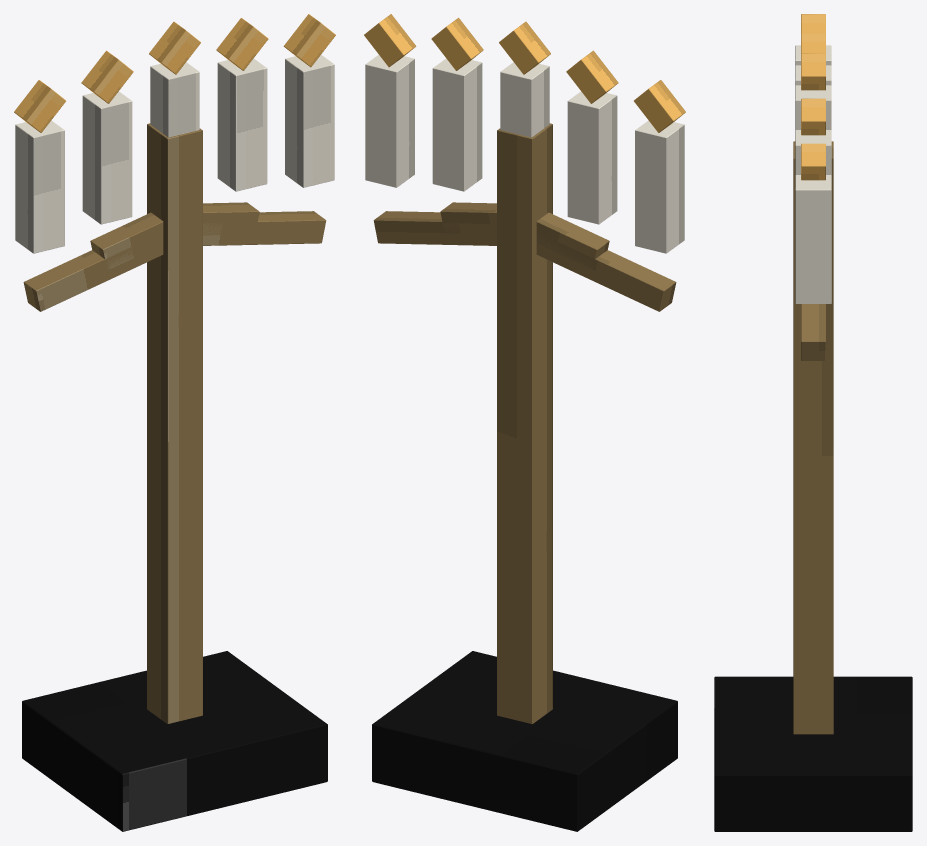
The model's file is gothic_floor_candelabra.glb.
3 views of the same model, side by side, from view 1: azimuth 30°, elevation 25°; view 2: azimuth 150°, elevation 25°; view 3: azimuth 270°, elevation 25° (orthographic).
Visible parts, largest first — view 1: CandelabraBase, CandelabraStem, FloorCandle_1, FloorCandle_3, FloorCandle_0, FloorCandle_4, CandelabraArm_0, FloorCandle_2, CandelabraArm_4, CandelabraArm_1, CandelabraArm_3, FloorFlame_2 (+4 smaller); view 2: CandelabraBase, CandelabraStem, FloorCandle_1, FloorCandle_3, FloorCandle_0, FloorCandle_4, CandelabraArm_0, CandelabraArm_4, FloorCandle_2, CandelabraArm_1, CandelabraArm_3, FloorFlame_2 (+4 smaller); view 3: CandelabraBase, CandelabraStem, FloorCandle_4, CandelabraArm_4, FloorFlame_2, FloorFlame_3, FloorFlame_4, FloorCandle_2, FloorCandle_3, FloorFlame_0, FloorFlame_1.
Boxes of the visible parts, bbox=[...] form: CandelabraBase: bbox=[22, 651, 327, 831]; CandelabraStem: bbox=[147, 123, 202, 723]; FloorCandle_1: bbox=[82, 91, 132, 224]; FloorCandle_3: bbox=[217, 58, 267, 191]; FloorCandle_0: bbox=[15, 120, 64, 253]; FloorCandle_4: bbox=[285, 55, 334, 187]; CandelabraArm_0: bbox=[23, 232, 163, 311]; FloorCandle_2: bbox=[150, 62, 199, 137]; CandelabraArm_4: bbox=[203, 211, 326, 245]; CandelabraArm_1: bbox=[90, 212, 163, 270]; CandelabraArm_3: bbox=[203, 202, 259, 235]; FloorFlame_2: bbox=[149, 21, 200, 74]; CandelabraBase: bbox=[372, 651, 677, 831]; CandelabraStem: bbox=[497, 123, 552, 723]; FloorCandle_1: bbox=[567, 91, 617, 224]; FloorCandle_3: bbox=[432, 58, 482, 191]; FloorCandle_0: bbox=[635, 120, 684, 253]; FloorCandle_4: bbox=[365, 55, 414, 187]; CandelabraArm_0: bbox=[536, 232, 676, 311]; CandelabraArm_4: bbox=[373, 211, 496, 245]; FloorCandle_2: bbox=[500, 62, 549, 137]; CandelabraArm_1: bbox=[536, 212, 609, 270]; CandelabraArm_3: bbox=[440, 202, 496, 235]; FloorFlame_2: bbox=[499, 21, 550, 74]; CandelabraBase: bbox=[714, 676, 912, 831]; CandelabraStem: bbox=[793, 141, 833, 734]; FloorCandle_4: bbox=[795, 175, 831, 303]; CandelabraArm_4: bbox=[801, 304, 825, 360]; FloorFlame_2: bbox=[801, 53, 825, 90]; FloorFlame_3: bbox=[801, 98, 825, 135]; FloorFlame_4: bbox=[801, 143, 825, 180]; FloorCandle_2: bbox=[795, 85, 831, 129]; FloorCandle_3: bbox=[795, 130, 831, 174]; FloorFlame_0: bbox=[801, 14, 825, 33]; FloorFlame_1: bbox=[801, 34, 825, 53].
Bounding box in the file's own units: 0.7811 × 1.79 × 0.44.
1 material, 1 textured.
